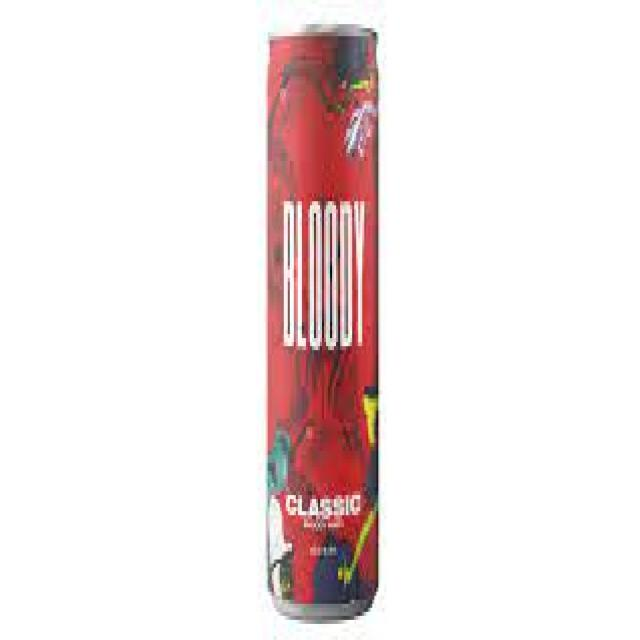Cans: (260, 16, 384, 628)
